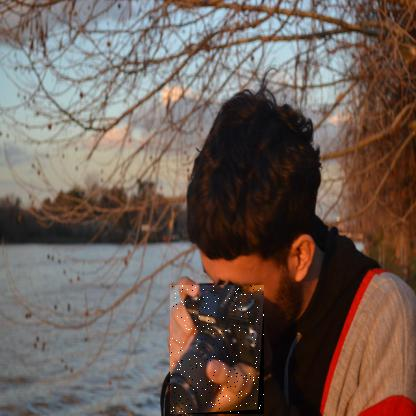Camera: (171, 286, 266, 416)
